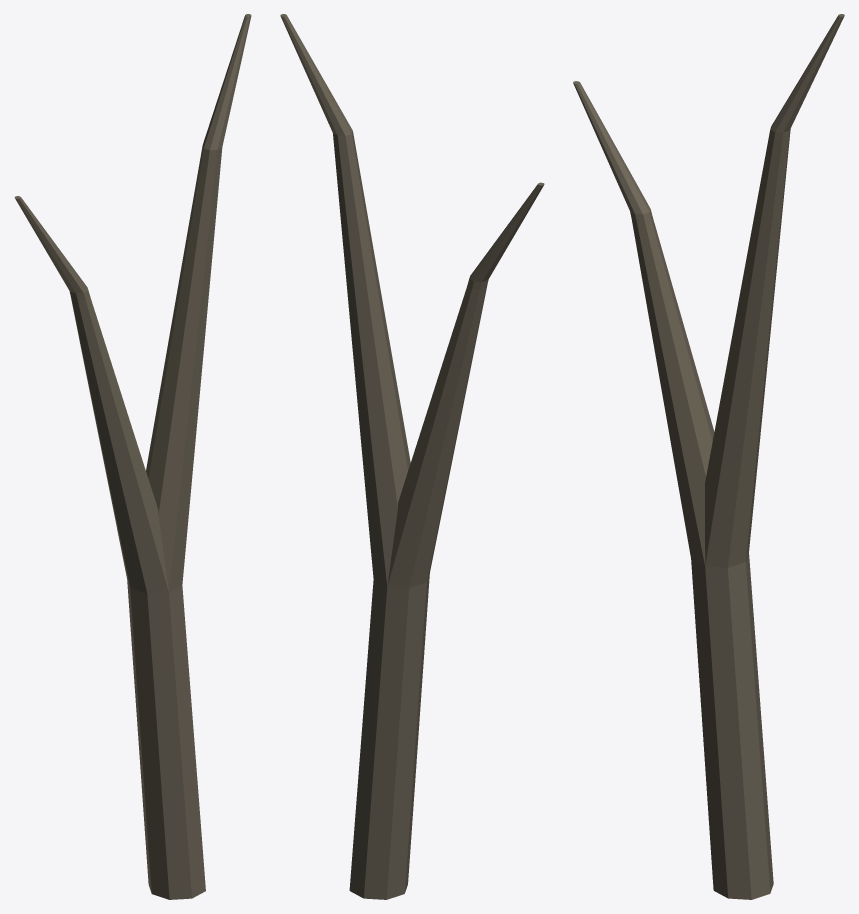
File: LogCayXoan.fbx
3 renders of one model, left to right at view 1: azimuth 30°, elevation 25°; view 2: azimuth 150°, elevation 25°; view 3: azimuth 330°, elevation 25°, orthographic. The views are drawn at different scales.
Parts seen in each view (by area): view 1: Trunk, Trunk.001; view 2: Trunk, Trunk.001; view 3: Trunk, Trunk.001.
Boxes of the visible parts, left/top/right/bottom form: Trunk: left=127, top=14, right=251, bottom=899; Trunk.001: left=14, top=196, right=168, bottom=593; Trunk: left=280, top=14, right=429, bottom=899; Trunk.001: left=387, top=182, right=544, bottom=587; Trunk: left=691, top=14, right=844, bottom=899; Trunk.001: left=573, top=81, right=714, bottom=565.
Bounding box in the file's own units: 1123 × 3672 × 231.
